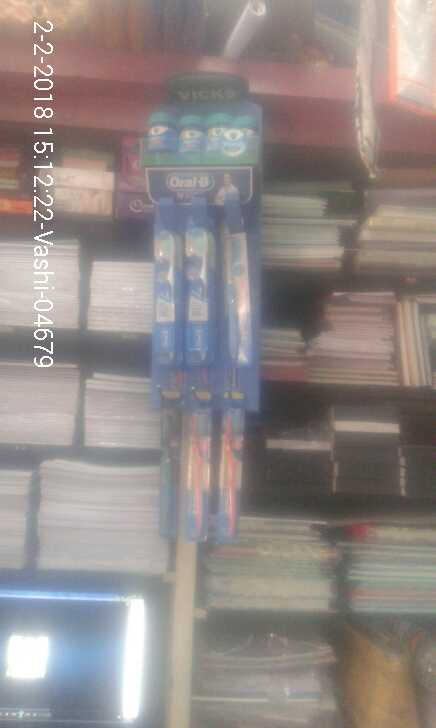oralb: (187, 221, 220, 375), (154, 221, 184, 367), (224, 232, 253, 379)
pharmacy: (138, 108, 266, 161)
